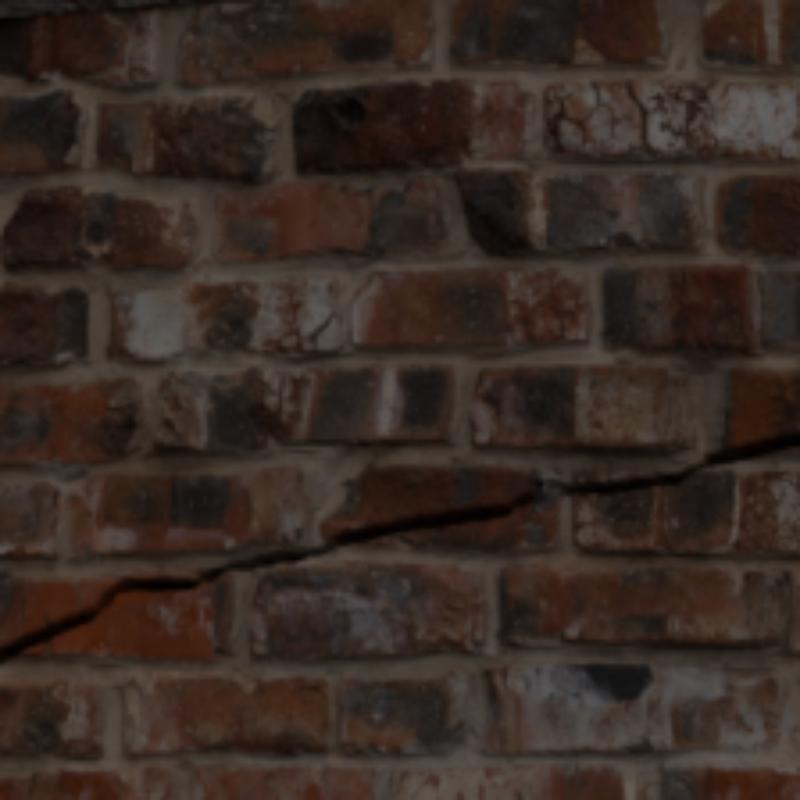crack: (0, 432, 796, 661), (629, 82, 657, 157)
